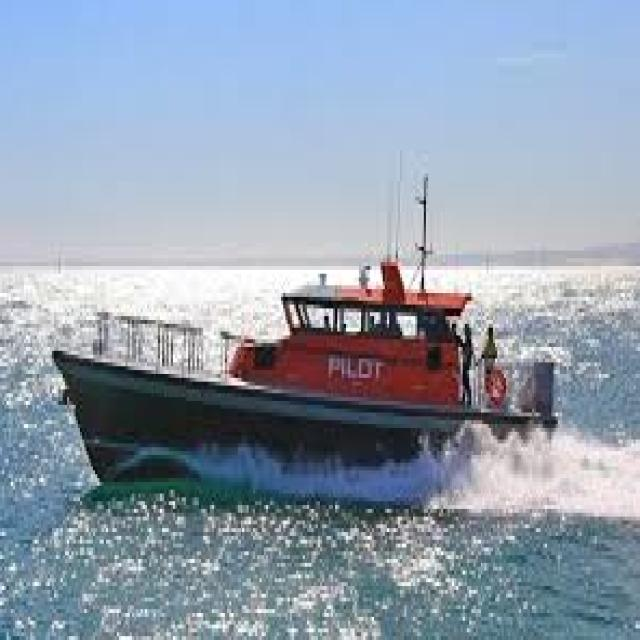houseboat: (51, 180, 556, 498)
